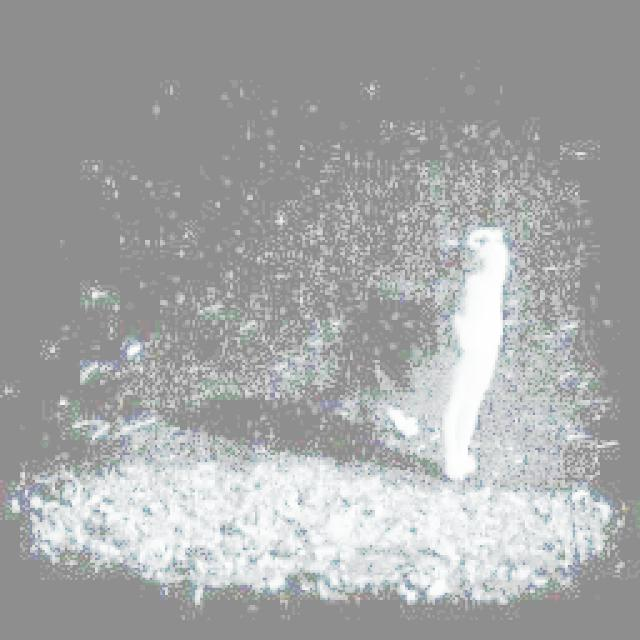cat: (368, 204, 521, 493)
